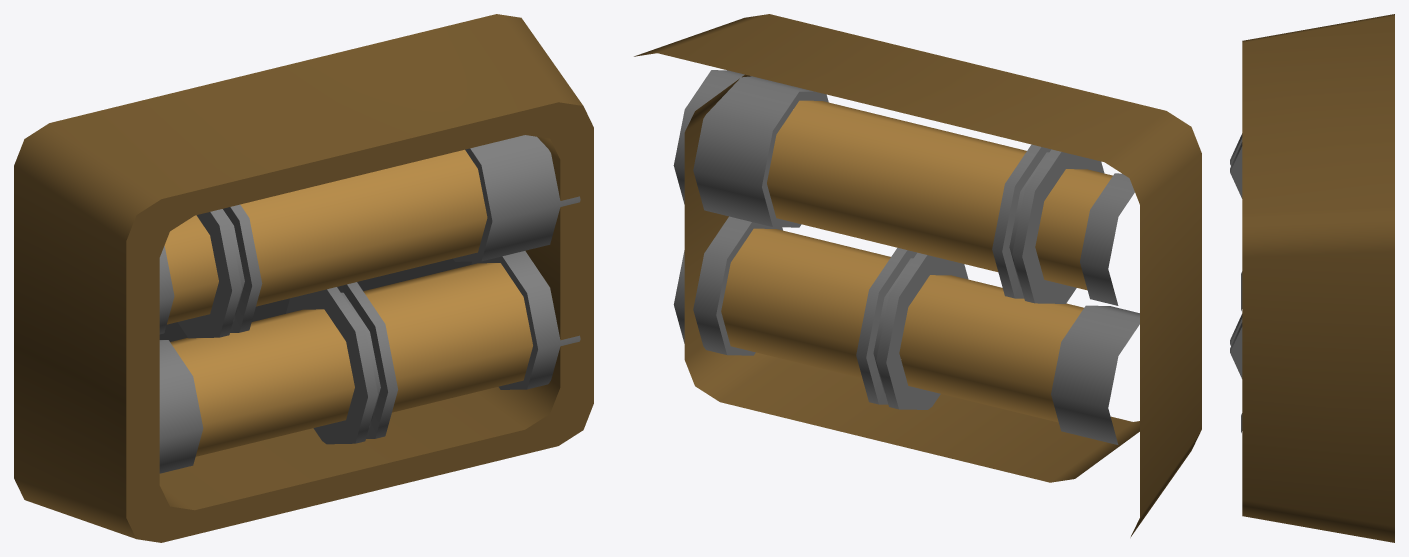
File: Details_Pipes_Small.glb
3 renders of one model, left to right at view 1: azimuth 30°, elevation 25°; view 2: azimuth 150°, elevation 25°; view 3: azimuth 270°, elevation 25°, orthographic. The views are drawn at different scales.
Visible parts, largest first — view 1: DarkAccent, Accent, DarkGrey, Black; view 2: DarkAccent, Accent, DarkGrey; view 3: DarkAccent, DarkGrey.
Part boxes in pixels (x1,y1,x2,y2): DarkAccent: (14,14,593,542); Accent: (164,149,532,456); DarkGrey: (159,135,580,473); Black: (159,258,471,341); DarkAccent: (634,14,1201,537); Accent: (721,100,1112,422); DarkGrey: (673,70,1139,444); DarkAccent: (1242,14,1394,542); DarkGrey: (1230,133,1242,432).
Bounding box in the file's own units: 0.3504 × 0.2462 × 0.1102.
